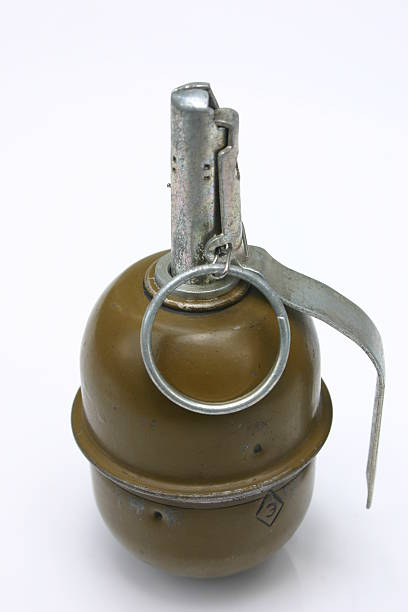e1: (71, 82, 384, 574)
